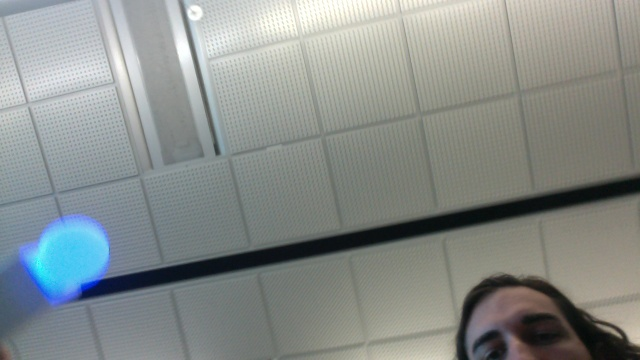wand: (37, 223, 111, 287)
